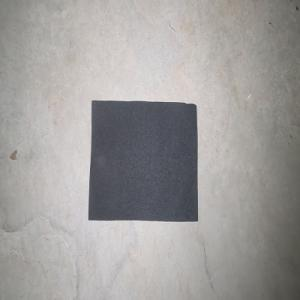PaintChip: (88, 100, 198, 222)
